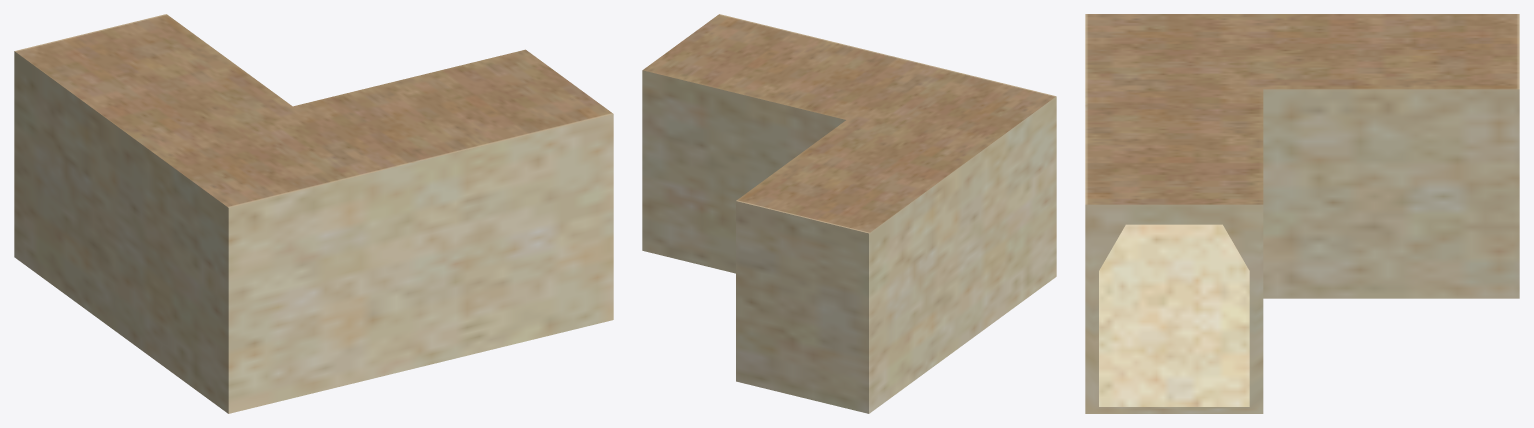
Rendered from thm_tato_imprv_building_s01_r1_foyer_mesh_l1.fbx.
3 renders of one model, left to right at view 1: azimuth 30°, elevation 25°; view 2: azimuth 150°, elevation 25°; view 3: azimuth 270°, elevation 25°, orthographic. The views are drawn at different scales.
Visible parts, largest first — view 1: mesh_node; view 2: mesh_node; view 3: mesh_node.
Part boxes in pixels (x1,y1,x2,y2): mesh_node: [14, 14, 613, 413]; mesh_node: [642, 14, 1056, 413]; mesh_node: [1085, 14, 1519, 413].
Size of the model in its own units: 6.35 by 3.25 by 6.11.
